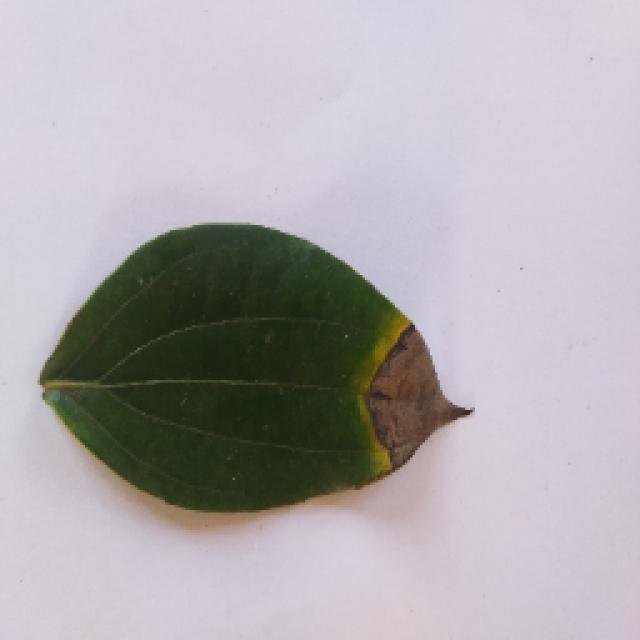footrot: (32, 218, 470, 512)
